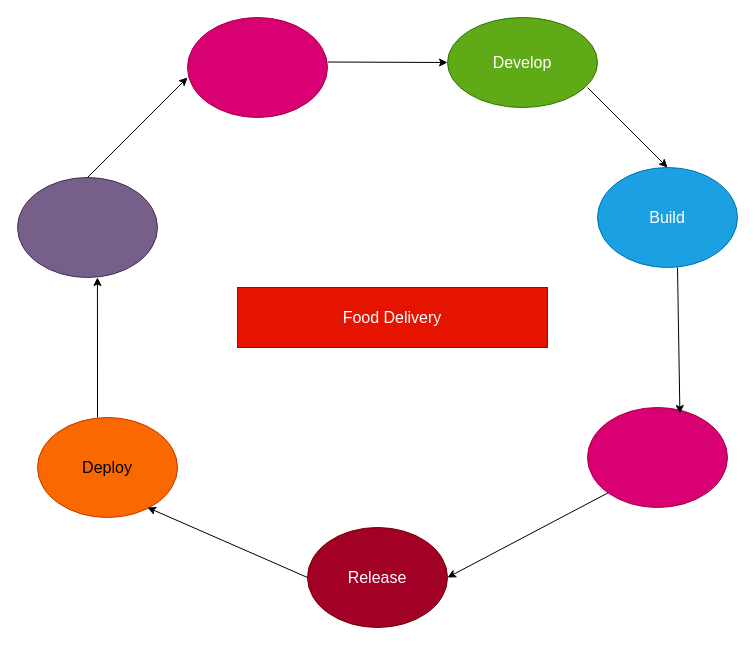
Image size: 755x645. Some labels were removed from this diagram. Each missing label, with the centre of its shape:
Operate & Monitor: point (87, 227)
Plan: point (257, 67)
Test: point (657, 457)
